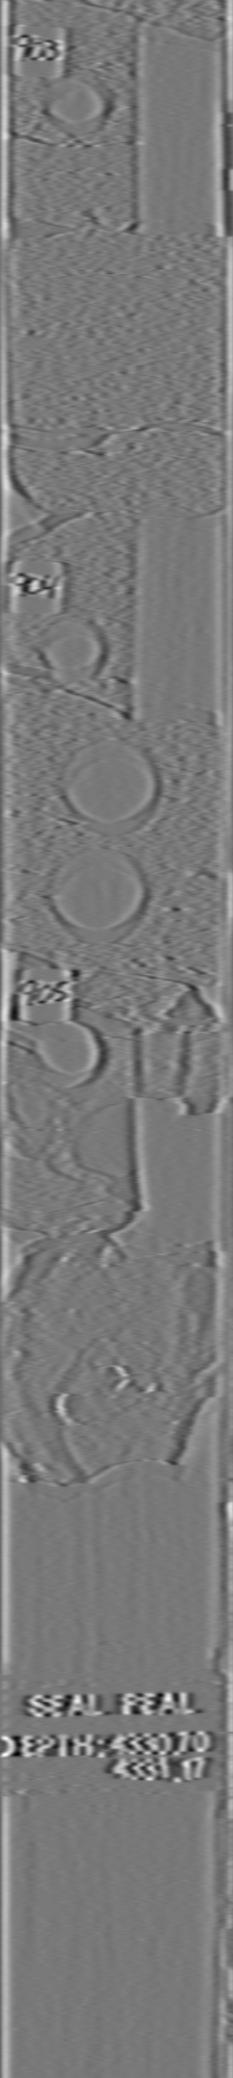hplug: (23, 1012, 114, 1099), (36, 60, 120, 138), (29, 606, 110, 686)
scal: (53, 732, 168, 842), (46, 849, 158, 952)
vplug: (120, 8, 217, 246), (123, 504, 217, 732), (123, 1018, 204, 1263)
